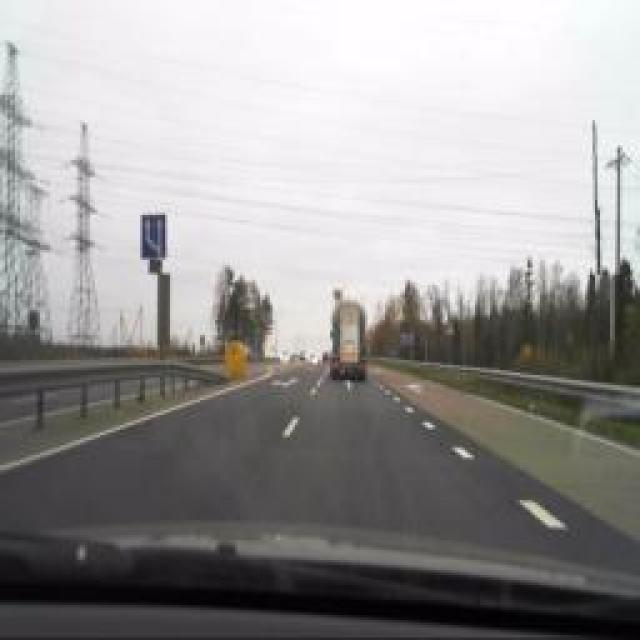sign: (444, 322, 456, 336)
